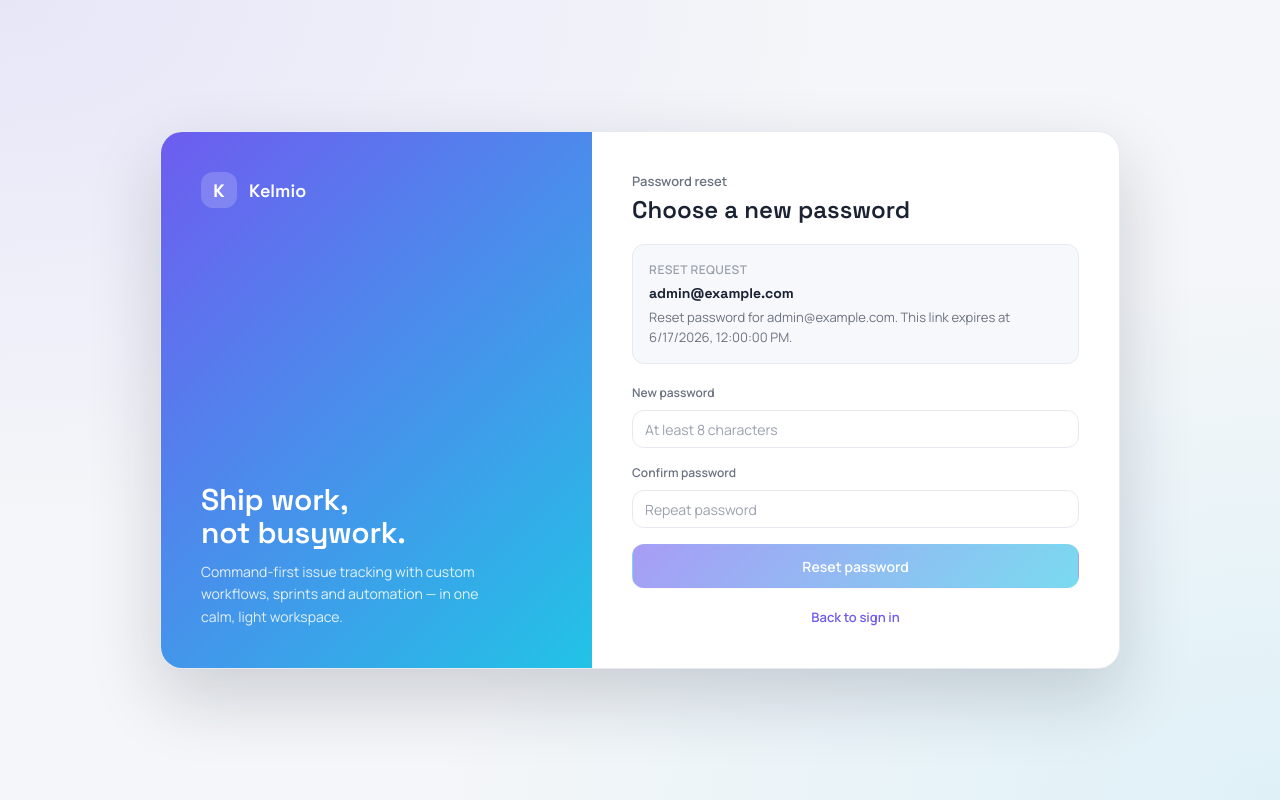
it: reset password screen completes reset and shows success state
Expected: the text "admin@example.com" is shown, [649,284,794,302]
Type "new-password" into the password field labelled "New password". click: (856, 429)
box: [632,410,1079,448]
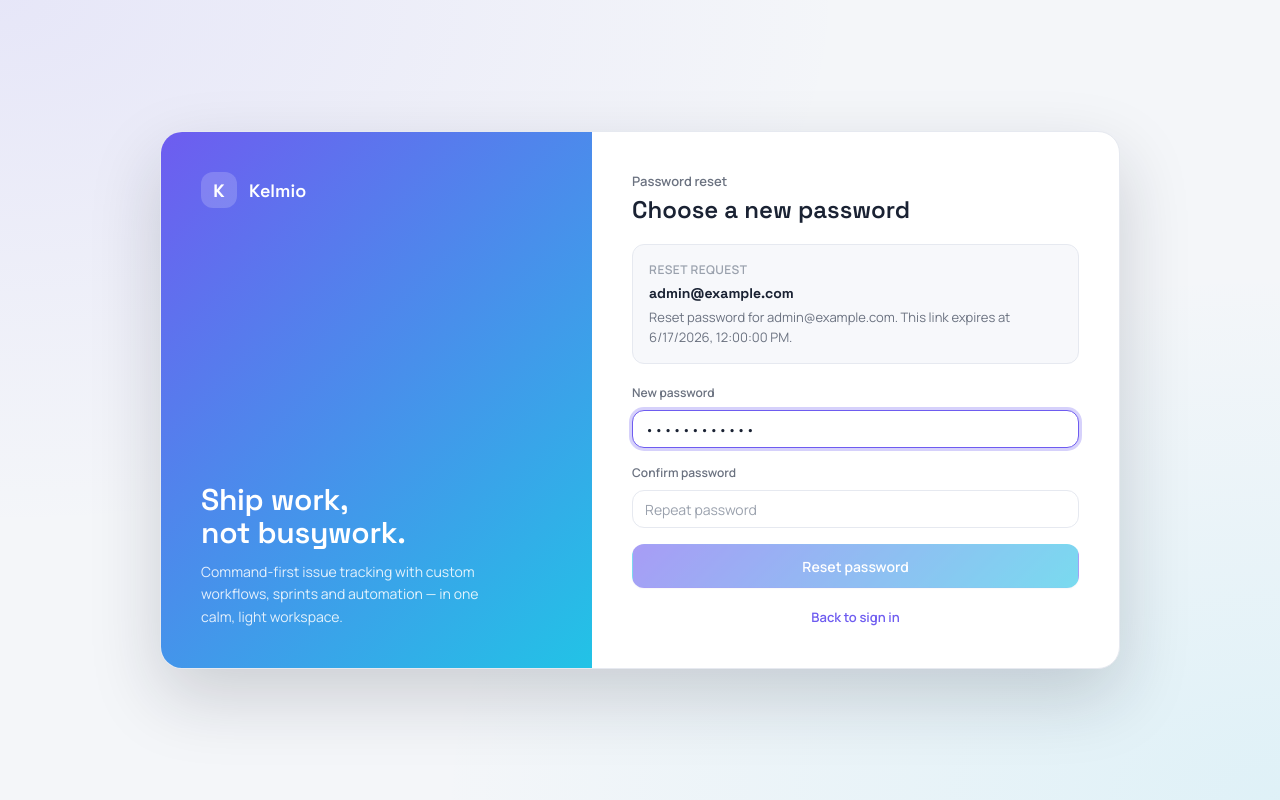
Type "new-password" into the password field labelled "Confirm password". click: (856, 509)
box: [632,490,1079,528]
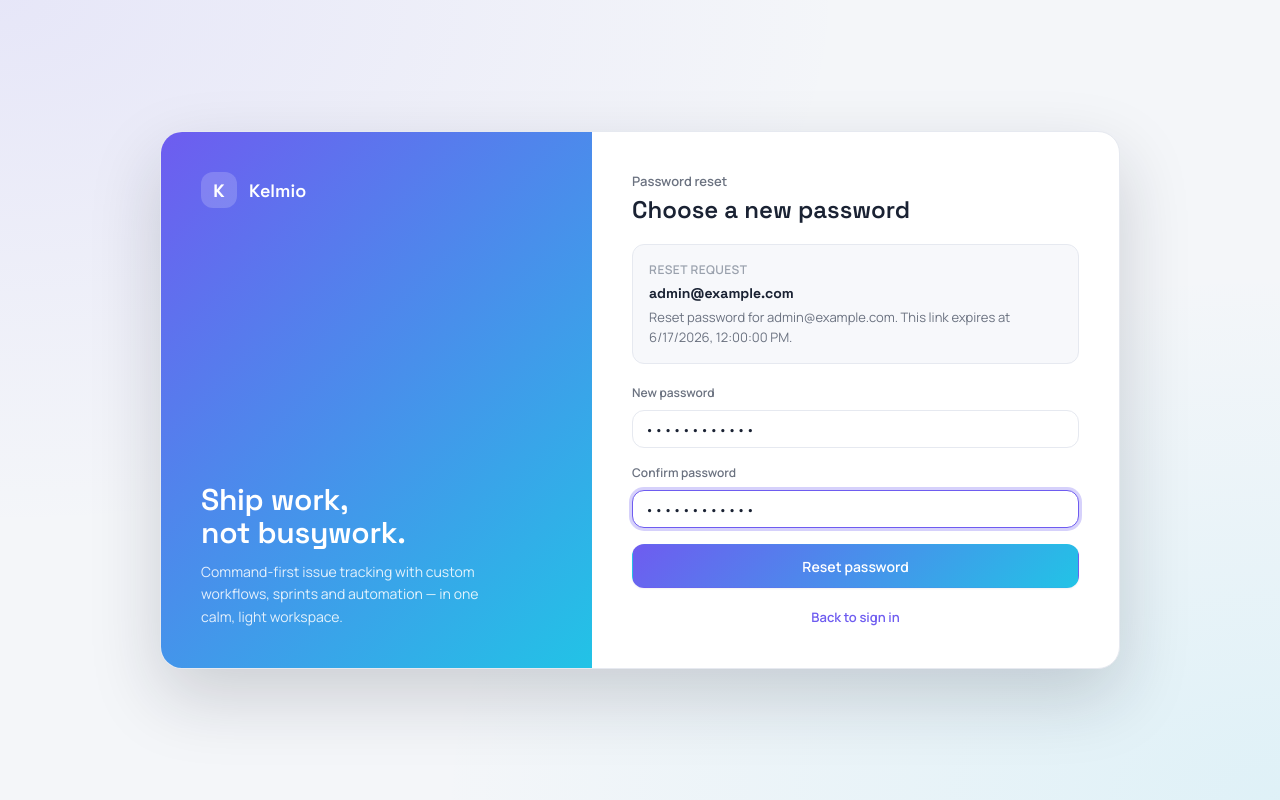
Click the button "Reset password". click: click(856, 566)
box: [632,544,1079,588]
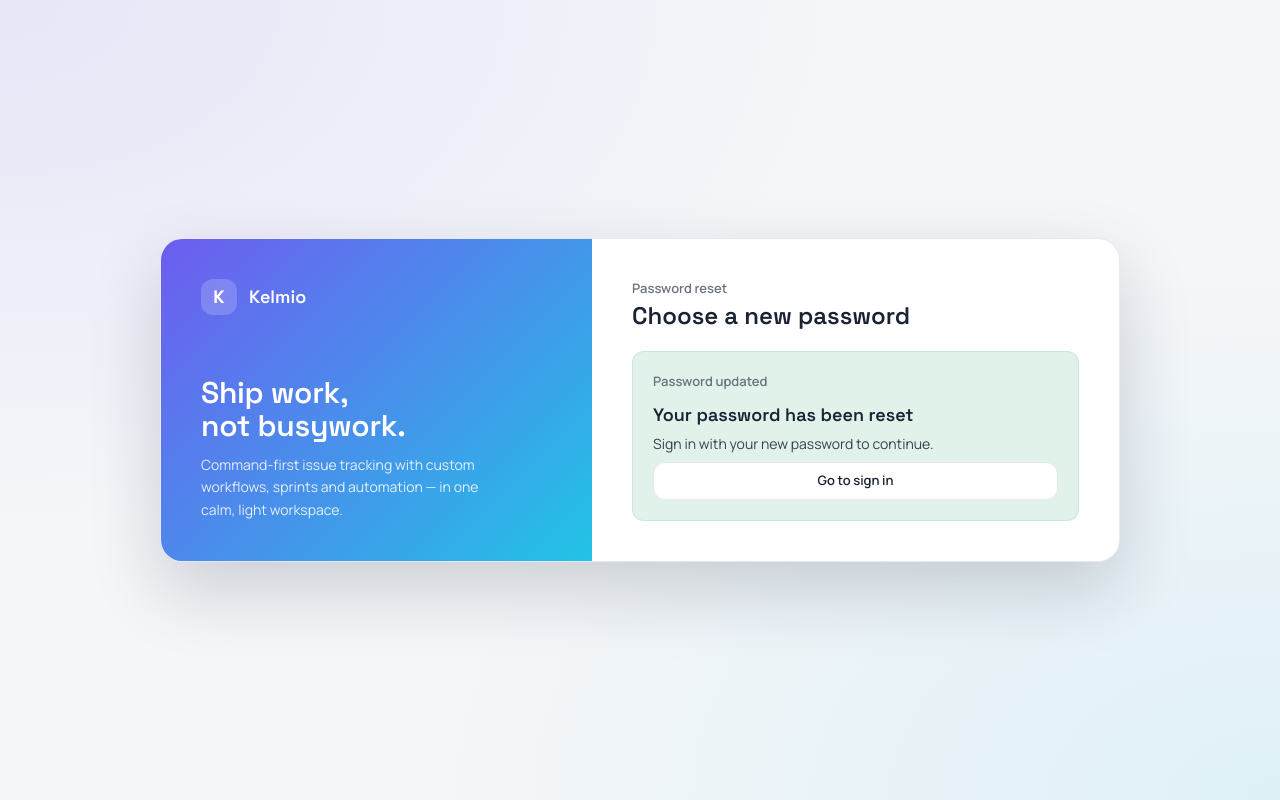
Now the heading "Your password has been reset" is shown, box [653,403,914,426]
